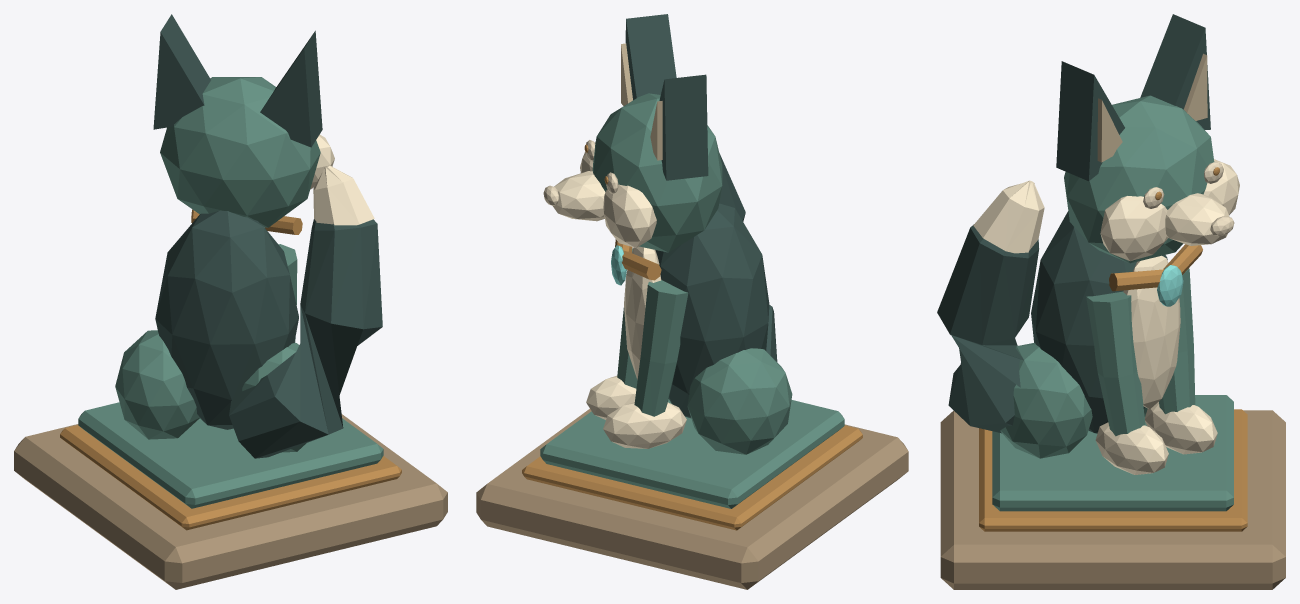
The model's file is Tower_SteamFoxL1.fbx.
3 views of the same model, side by side, from view 1: azimuth 30°, elevation 25°; view 2: azimuth 150°, elevation 25°; view 3: azimuth 270°, elevation 25° (orthographic). The views are drawn at different scales.
Visible parts, largest first — view 1: Tower_SteamFoxL1; view 2: Tower_SteamFoxL1; view 3: Tower_SteamFoxL1.
Part boxes in pixels (x1,y1,x2,y2): Tower_SteamFoxL1: (14,14,447,589); Tower_SteamFoxL1: (476,14,908,589); Tower_SteamFoxL1: (937,14,1285,589).
Size of the model in its own units: 0.9 by 1.4 by 0.9092.
